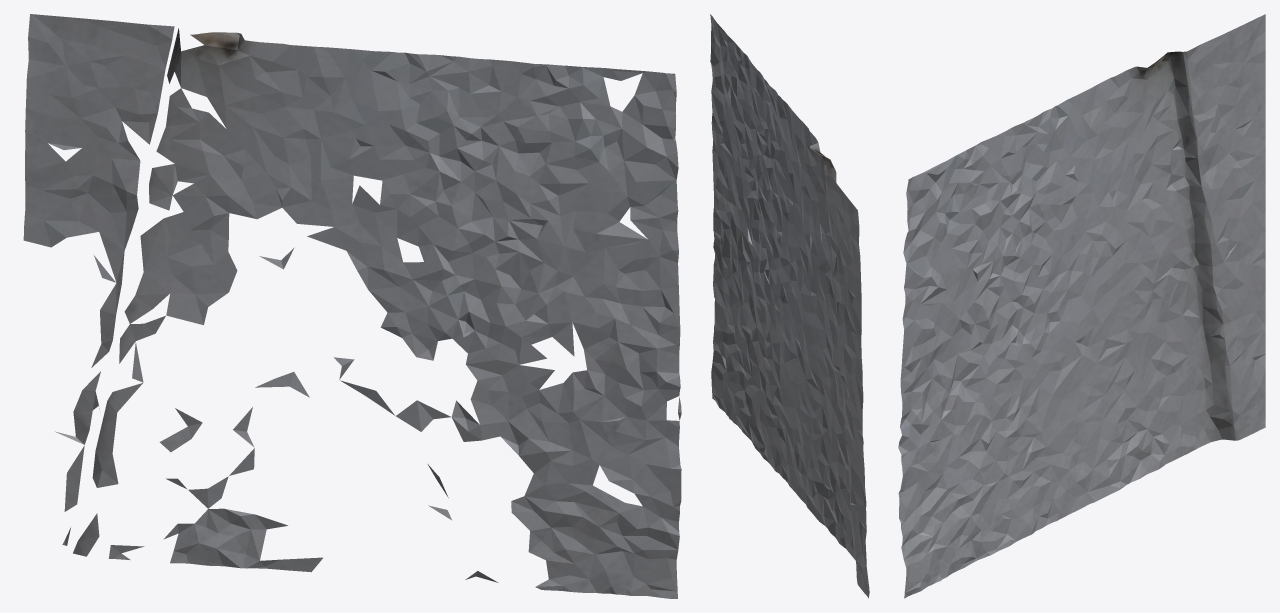
3 renders of one model, left to right at view 1: azimuth 30°, elevation 25°; view 2: azimuth 150°, elevation 25°; view 3: azimuth 270°, elevation 25°, orthographic. The views are drawn at different scales.
Size of the model in its own units: 0.7344 by 0.8374 by 0.6642.
3 materials, 3 textured.
